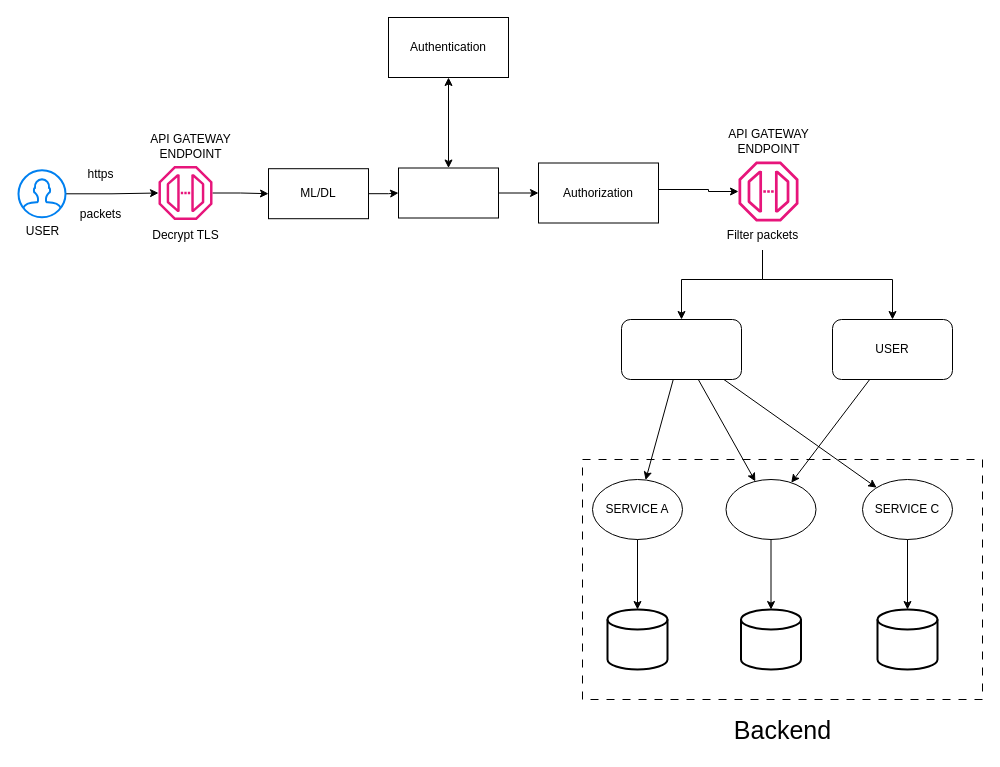
Some shapes in this 1000 by 767 pixel diagram are drawn without their labels. The centre of each missing label's shape, as x and y in pixels:
"ADMIN" belongs at point (681, 349).
"ROUTERS/LBS" belongs at point (448, 192).
"SERVICE B" belongs at point (770, 509).
